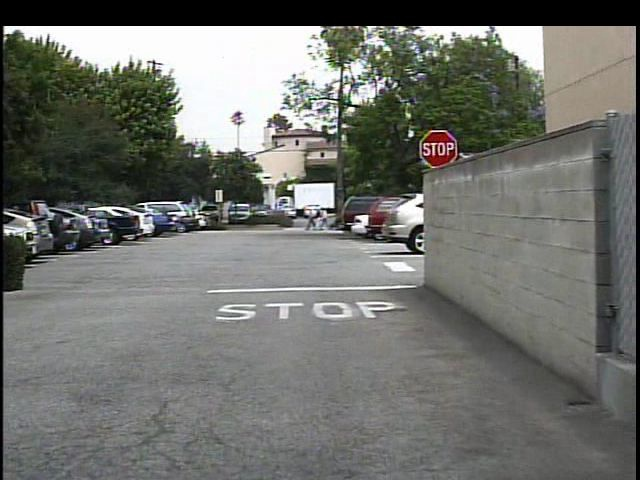person: (315, 206, 329, 233), (301, 207, 315, 233)
